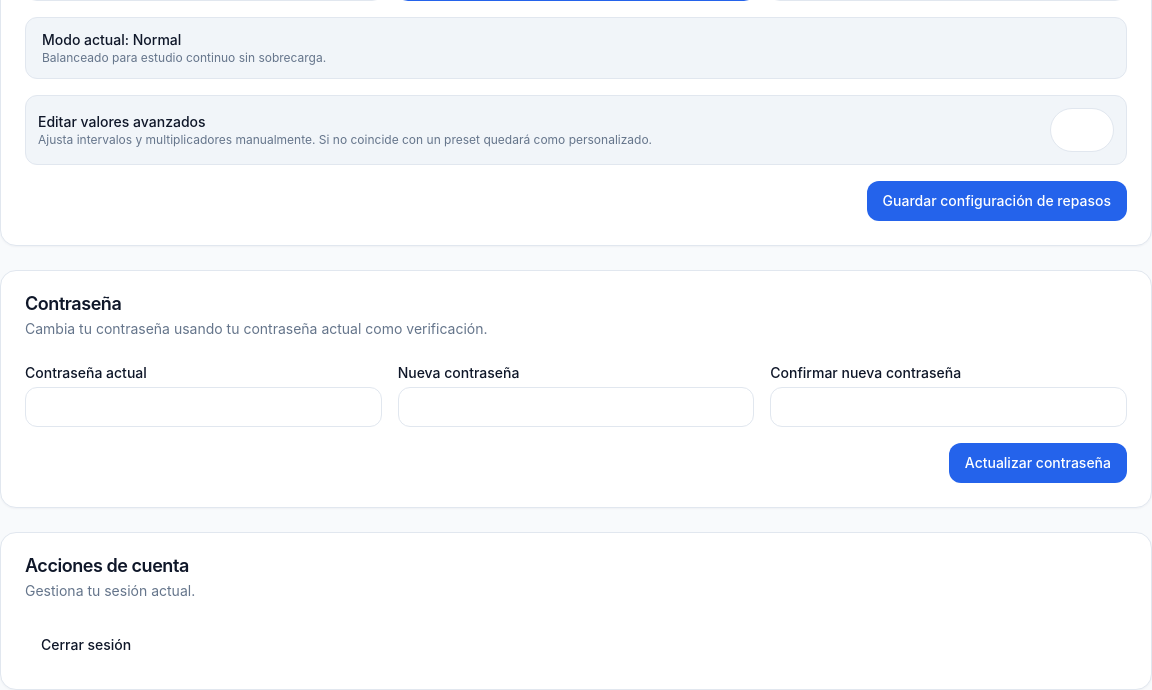
Test: AccountSettingsPage › maps 401 invalid-current-password to current password field error
This screenshot has width=1152, height=690.
(page scrolled)
Type "password-incorrecta" into the password field labelled "Contraseña actual" at (203, 407), box [25,387,382,427]
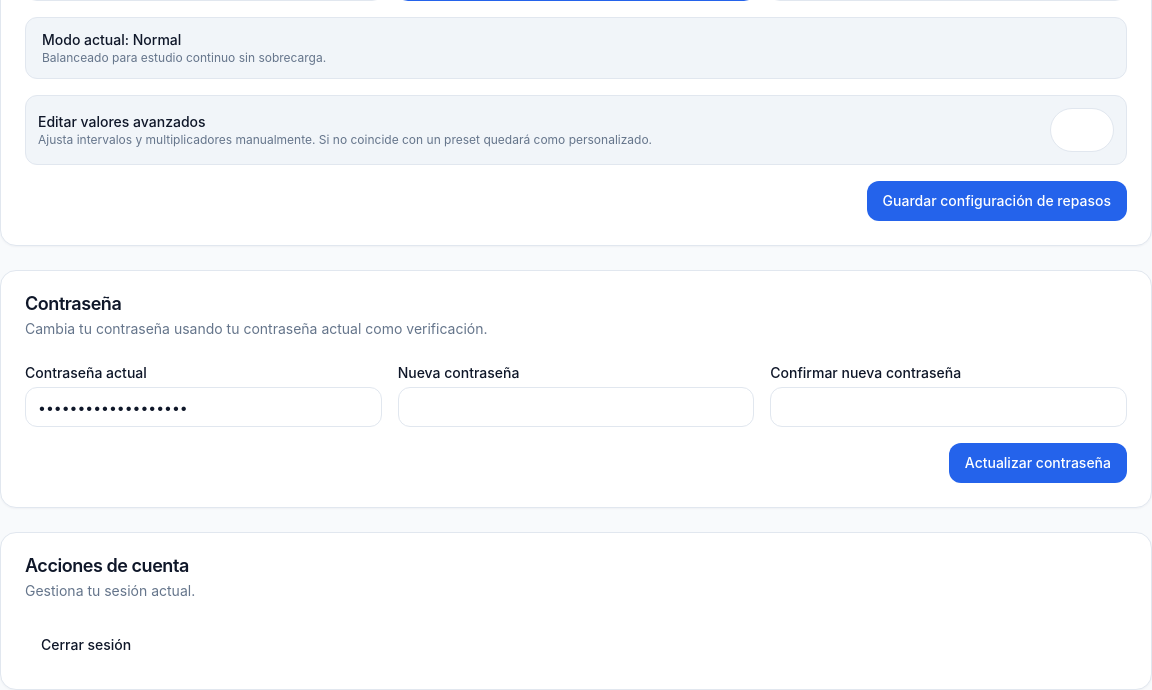
Type "nueva-password-segura" into the password field labelled "Nueva contraseña" at (576, 407), box [398,387,754,427]
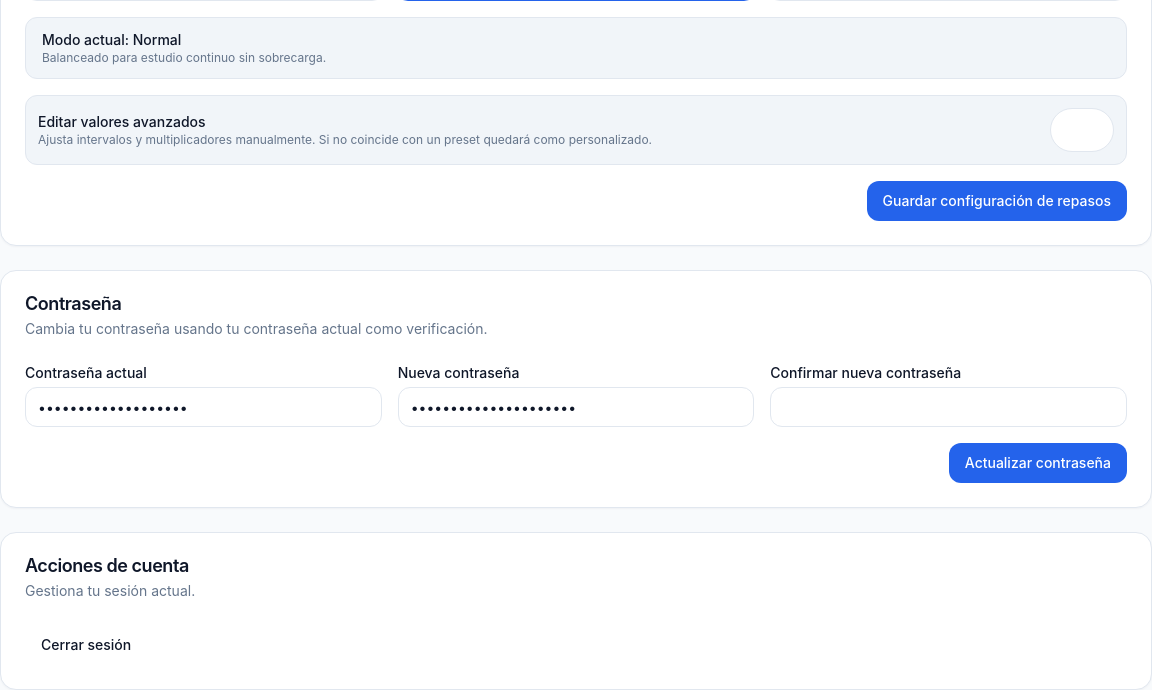
Type "nueva-password-segura" into the password field labelled "Confirmar nueva contraseña" at (949, 407), box [770,387,1127,427]
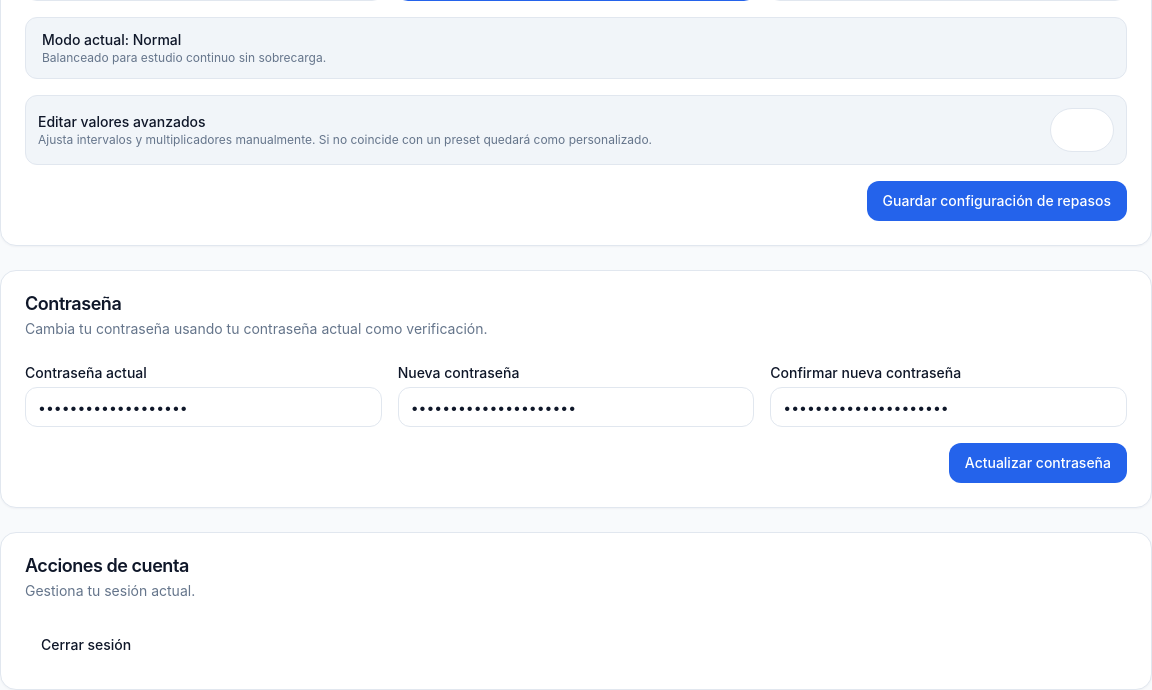
Click the button "Actualizar contraseña" at (1038, 463), box [949,443,1127,483]
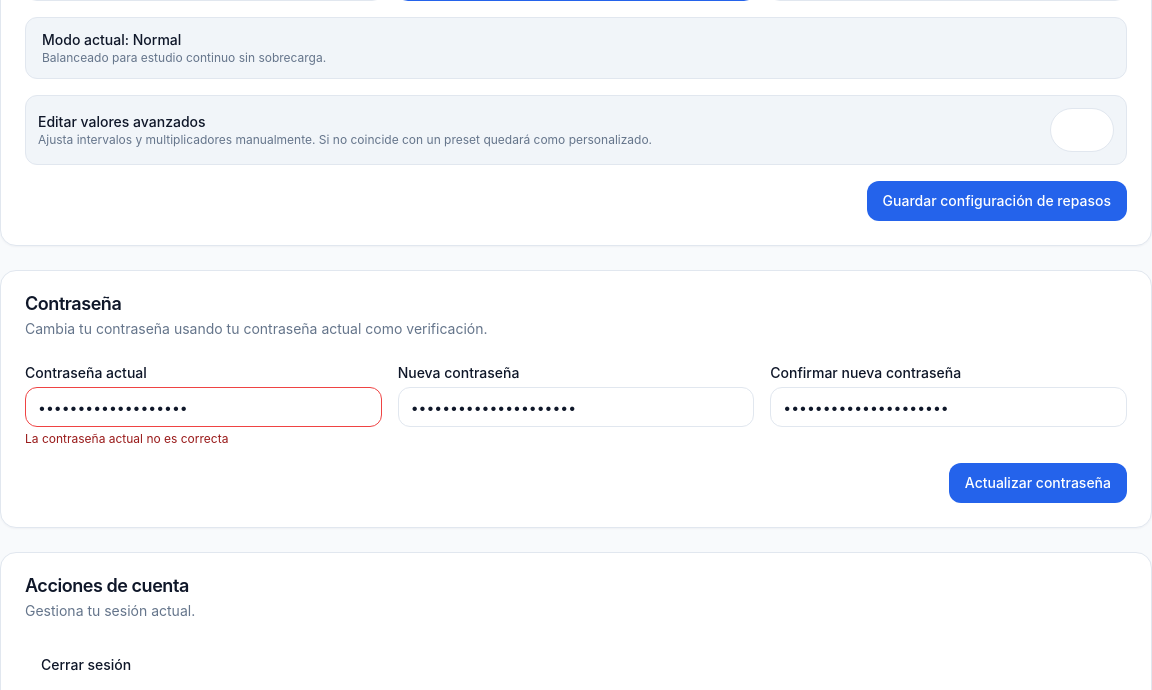
Expected: the text "La contraseña actual no es correcta" is shown, [25,431,228,446]
